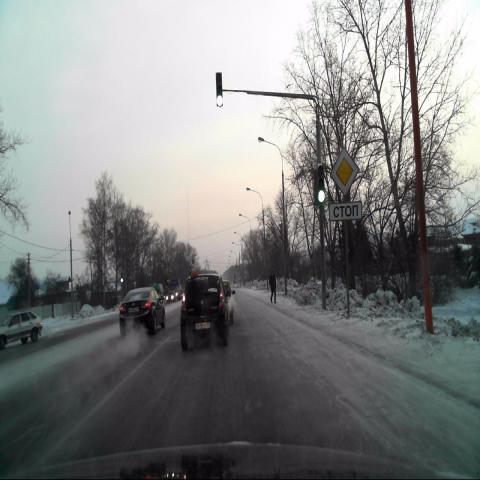6_16: (330, 201, 362, 221)
